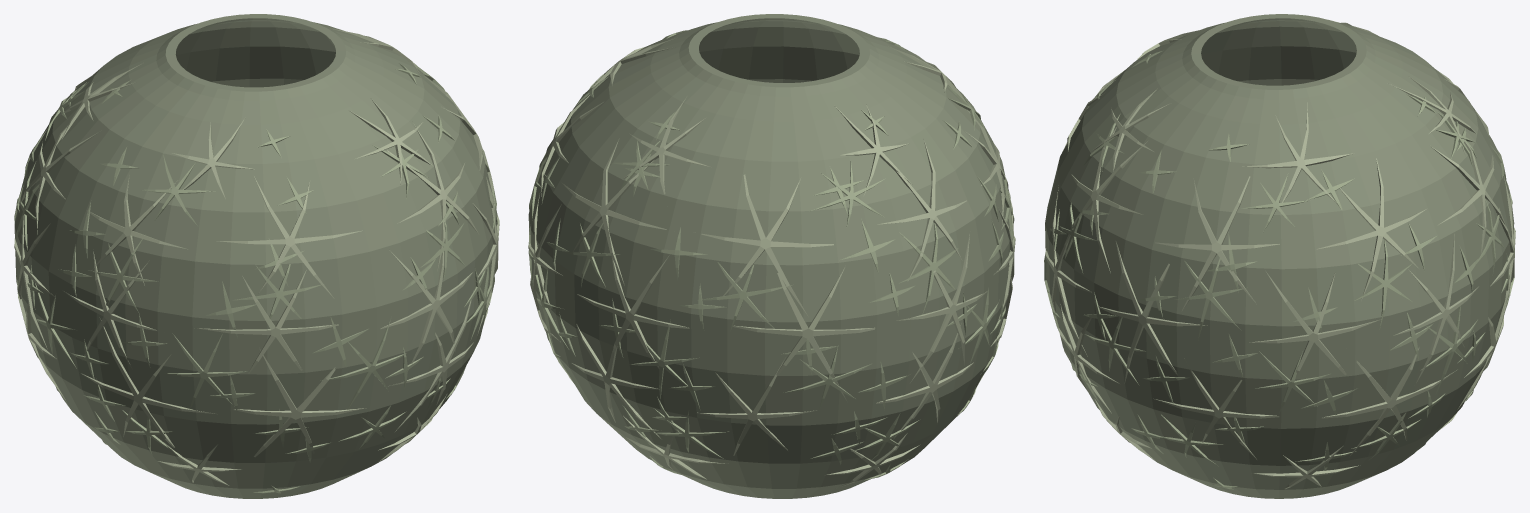
3 renders of one model, left to right at view 1: azimuth 30°, elevation 25°; view 2: azimuth 150°, elevation 25°; view 3: azimuth 270°, elevation 25°, orthographic.
Visible parts, largest first — view 1: continuous-hollow-sac-open-osculum, large-wall-following-6-rayed-spicules, medium-wall-following-6-rayed-spicules, small-wall-following-4-rayed-spicules; view 2: continuous-hollow-sac-open-osculum, large-wall-following-6-rayed-spicules, medium-wall-following-6-rayed-spicules, small-wall-following-4-rayed-spicules; view 3: continuous-hollow-sac-open-osculum, large-wall-following-6-rayed-spicules, medium-wall-following-6-rayed-spicules, small-wall-following-4-rayed-spicules.
Part boxes in pixels (x1,y1,x2,y2): continuous-hollow-sac-open-osculum: (14, 14, 497, 498); large-wall-following-6-rayed-spicules: (14, 28, 499, 485); medium-wall-following-6-rayed-spicules: (17, 65, 496, 454); small-wall-following-4-rayed-spicules: (14, 63, 497, 493); continuous-hollow-sac-open-osculum: (528, 14, 1010, 498); large-wall-following-6-rayed-spicules: (528, 38, 1015, 487); medium-wall-following-6-rayed-spicules: (529, 72, 1014, 460); small-wall-following-4-rayed-spicules: (528, 30, 1005, 480); continuous-hollow-sac-open-osculum: (1045, 14, 1514, 498); large-wall-following-6-rayed-spicules: (1045, 19, 1515, 489); medium-wall-following-6-rayed-spicules: (1044, 112, 1514, 465); small-wall-following-4-rayed-spicules: (1049, 51, 1512, 489).
Size of the model in its own units: 0.0312 by 0.0302 by 0.0301.
